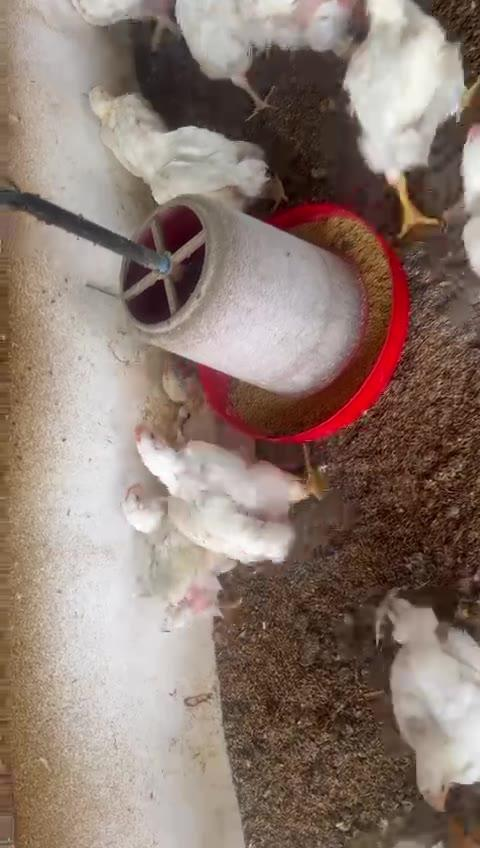AbNormal: (118, 480, 215, 628), (85, 70, 172, 178)
Normal: (338, 0, 472, 220), (352, 578, 480, 807), (135, 425, 335, 560), (172, 0, 290, 117), (130, 117, 278, 208)
